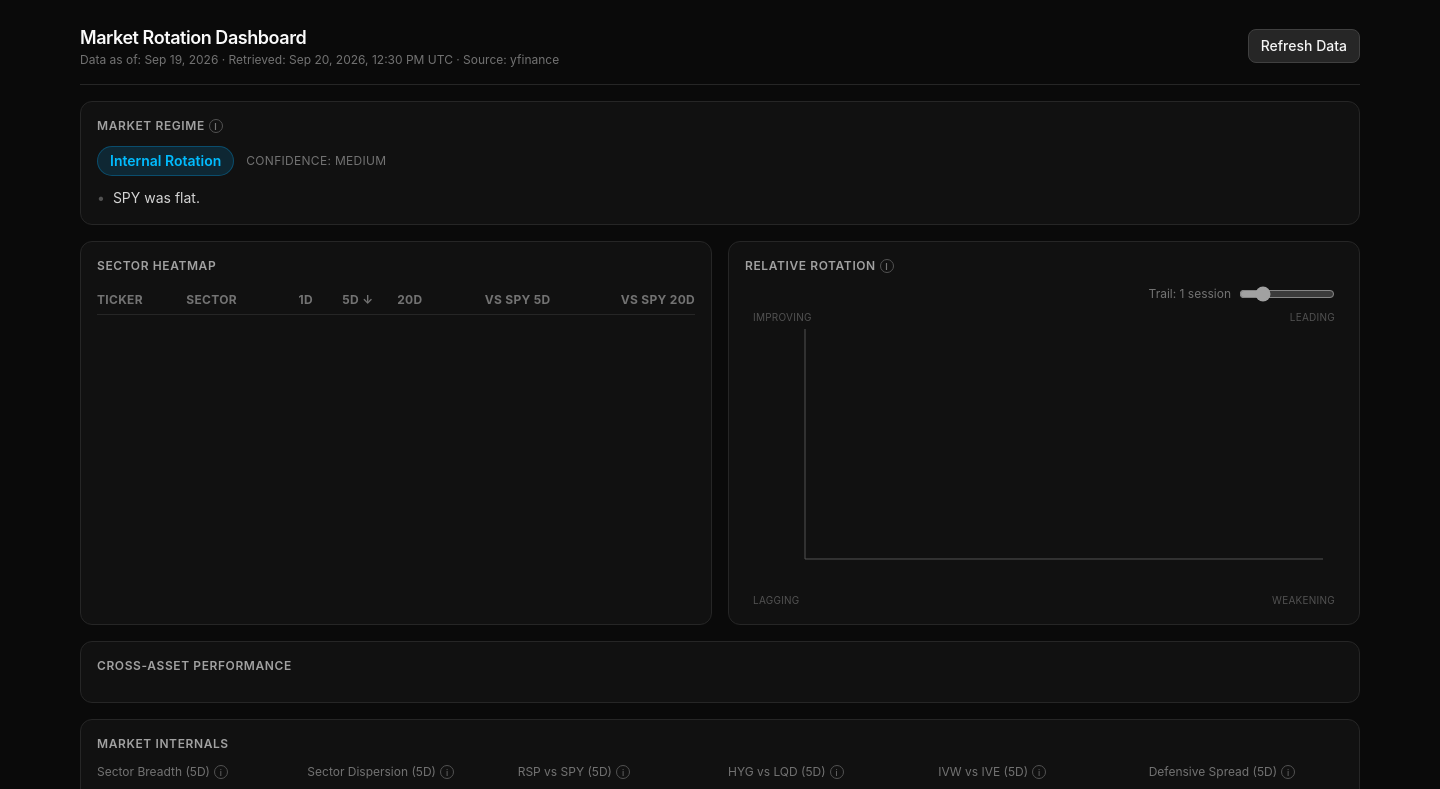
Test: App › surfaces a failed refresh without discarding the dashboard already on screen
Click the button "Refresh Data": (1304,46) [1248,29,1360,63]
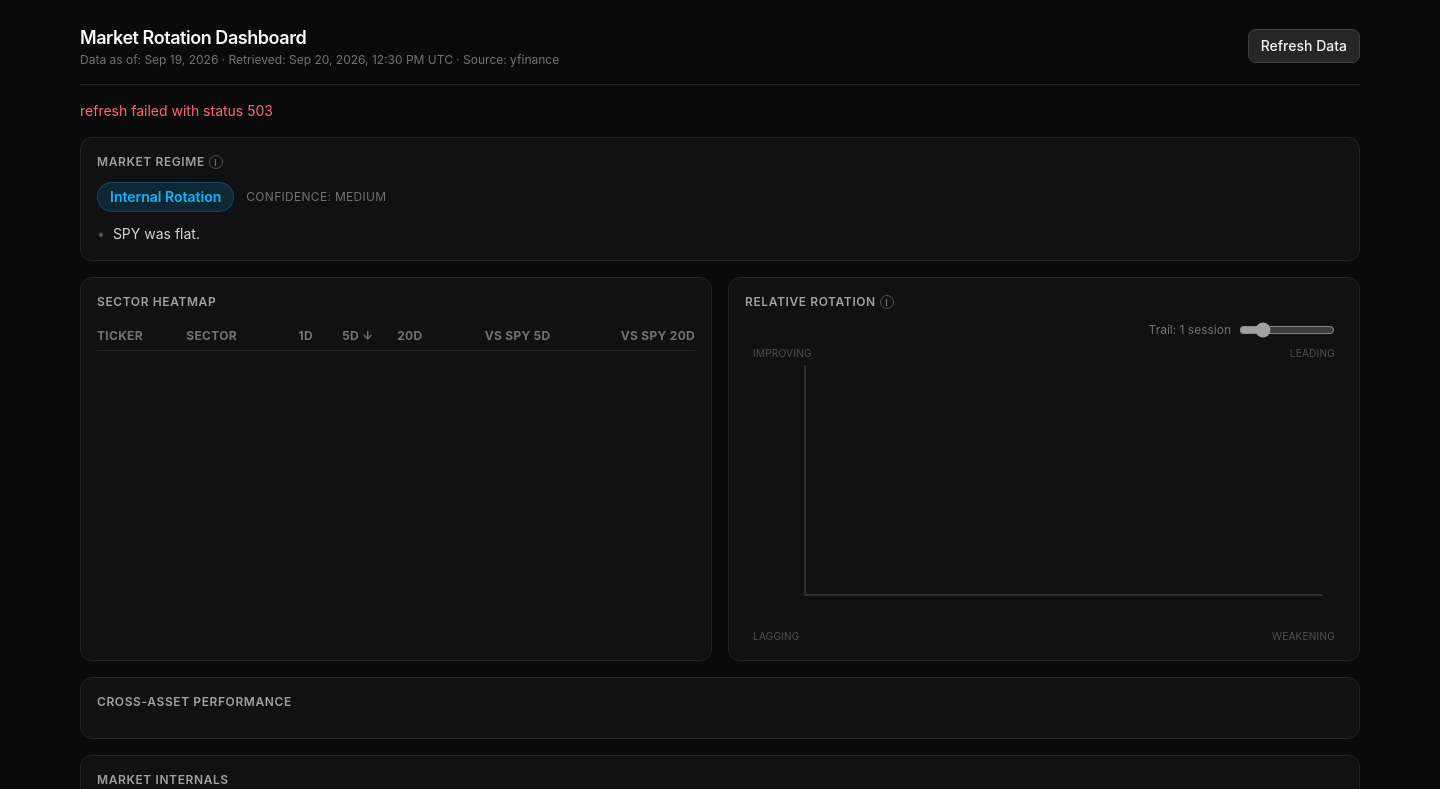
expect the text "Internal Rotation" is shown: met, box [97,182,234,212]
expect the text "refresh failed with status 503" is shown: met, box [80,102,273,119]
